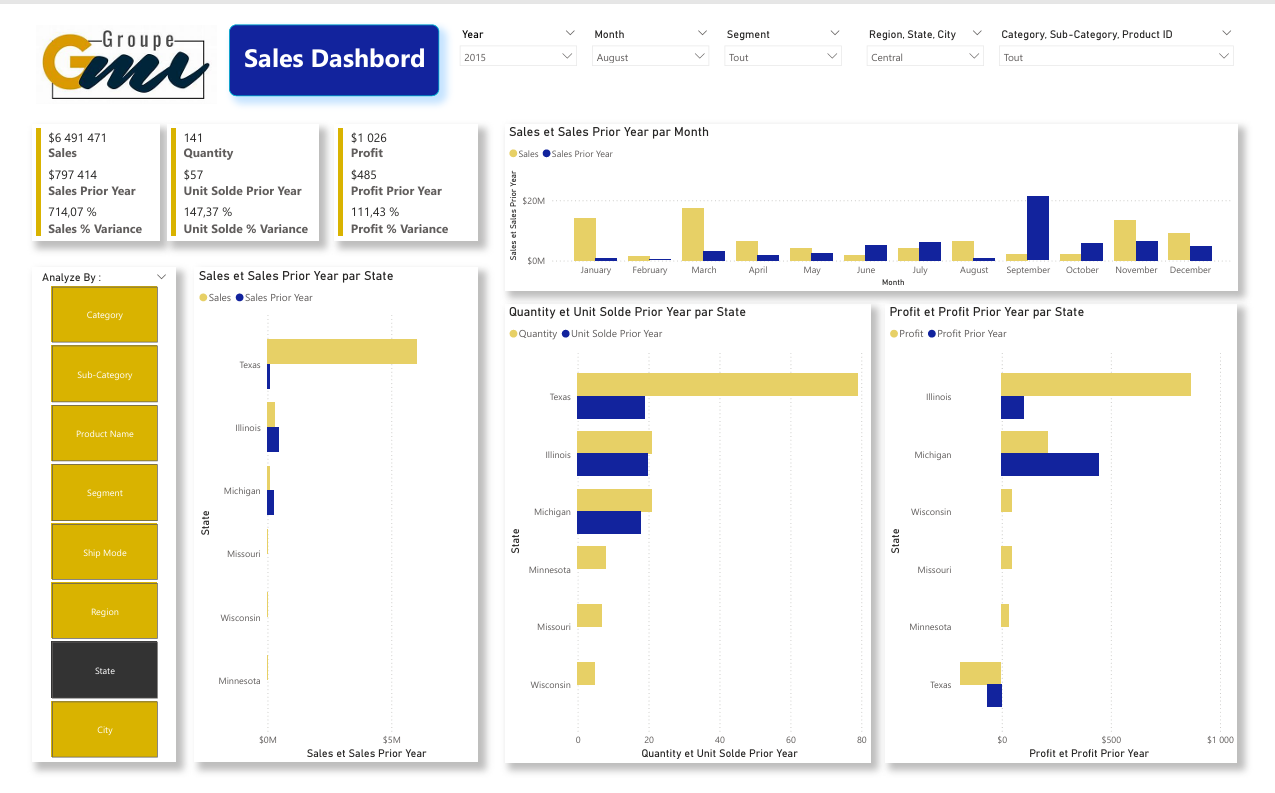

The page's visual inventory and layout, read from the dashboard file:
{"tool":"powerbi","page":{"name":"Comparatif des Ventes","canvas":[1640,1000],"ordinal":3},"visuals":[{"type":"multiRowCard","fields":{"Values":["Mesure.Sales","Mesure.Sales Prior Year","Mesure.Sales % Variance"]},"box":[20,136.2,167.5,153.8],"z":0},{"type":"multiRowCard","fields":{"Values":["Mesure.Quantity","Mesure.Unit Solde Prior Year","Mesure.Unit Solde % Variance"]},"box":[198.8,136.2,200,153.8],"z":1000},{"type":"multiRowCard","fields":{"Values":["Mesure.Profit","Mesure.Profit Prior Year","Mesure.Profit % Variance"]},"box":[420,136.2,190,153.8],"z":2000},{"type":"slicer","fields":{"Values":["Calendar.Year"]},"box":[575,2.5,175,77.5],"z":3000},{"type":"slicer","fields":{"Values":["Calendar.Month.Variation.Date Hierarchy.Month"]},"box":[750,2.5,175,77.5],"z":4000},{"type":"slicer","fields":{"Values":["data.Segment"]},"box":[925,2.5,175,77.5],"z":5000},{"type":"slicer","fields":{"Values":["Dim_location.Region","Dim_location.State","Dim_location.City"]},"box":[1112.5,2.5,175,77.5],"z":6000},{"type":"slicer","fields":{"Values":["Dim_product.Category","Dim_product.Sub-Category","Dim_product.Product ID"]},"box":[1287.5,2.5,330,77.5],"z":7000},{"type":"slicer","fields":{"Values":["Parameter.Parameter"]},"box":[20,325,190,655],"z":8000},{"type":"clusteredBarChart","fields":{"Category":["Dim_location.State"],"Y":["Mesure.Sales","Mesure.Sales Prior Year"]},"box":[235,325,375,655],"z":9000},{"type":"clusteredBarChart","fields":{"Category":["Dim_location.State"],"Y":["Mesure.Quantity","Mesure.Unit Solde Prior Year"]},"box":[645,372.5,482.5,607.5],"z":10000},{"type":"clusteredBarChart","fields":{"Category":["Dim_location.State"],"Y":["Mesure.Profit","Mesure.Profit Prior Year"]},"box":[1147.5,372.5,465,607.5],"z":11000},{"type":"clusteredColumnChart","fields":{"Y":["Mesure.Sales","Mesure.Sales Prior Year"],"Category":["Calendar.Month.Variation.Date Hierarchy.Month"]},"box":[645,135,967.5,220],"z":12000},{"type":"textbox","title":" ","box":[280,2.5,277.5,95],"z":13000},{"type":"image","box":[0,0,290,112.5],"z":14000},{"type":"actionButton","box":[0,0,265,113.3],"z":15000}]}

Visuals, with their boxes in screenshot pixels (x1, y1, x2, y2), scaled from the page's 1640x1000 canvas onto the 1275x793 screenshot:
multiRowCard - Mesure.Sales x Mesure.Sales Prior Year: 16:108:146:230
multiRowCard - Mesure.Quantity x Mesure.Unit Solde Prior Year: 155:108:310:230
multiRowCard - Mesure.Profit x Mesure.Profit Prior Year: 327:108:474:230
slicer - Calendar.Year: 447:2:583:63
slicer - Calendar.Month.Variation.Date Hierarchy.Month: 583:2:719:63
slicer - data.Segment: 719:2:855:63
slicer - Dim_location.Region x Dim_location.State: 865:2:1001:63
slicer - Dim_product.Category x Dim_product.Sub-Category: 1001:2:1258:63
slicer - Parameter.Parameter: 16:258:163:777
clusteredBarChart - Dim_location.State x Mesure.Sales: 183:258:474:777
clusteredBarChart - Dim_location.State x Mesure.Quantity: 501:295:877:777
clusteredBarChart - Dim_location.State x Mesure.Profit: 892:295:1254:777
clusteredColumnChart - Mesure.Sales x Mesure.Sales Prior Year: 501:107:1254:282
" " textbox: 218:2:433:77
image: 0:0:225:89
actionButton: 0:0:206:90
